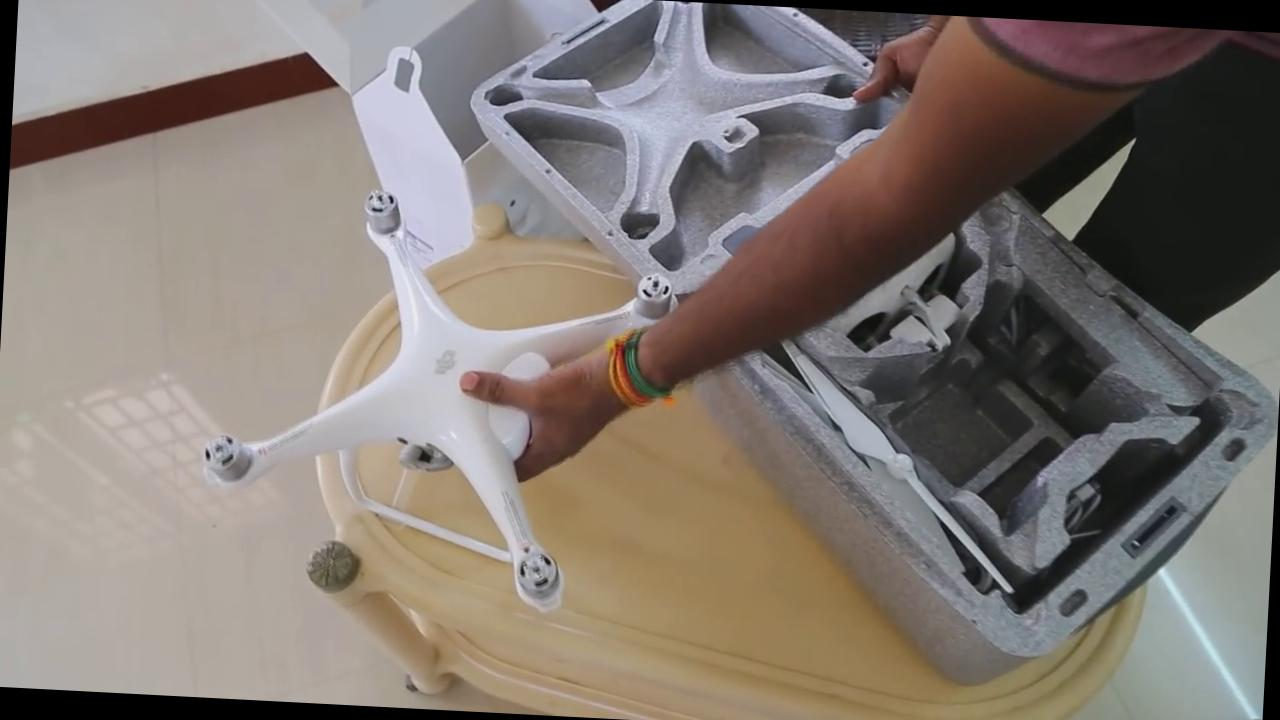drone: (170, 178, 698, 622)
